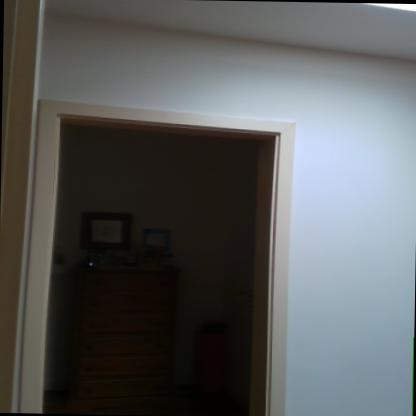open: (17, 77, 308, 416)
